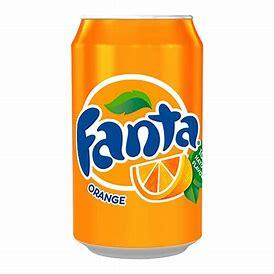metal: (72, 16, 203, 258)
